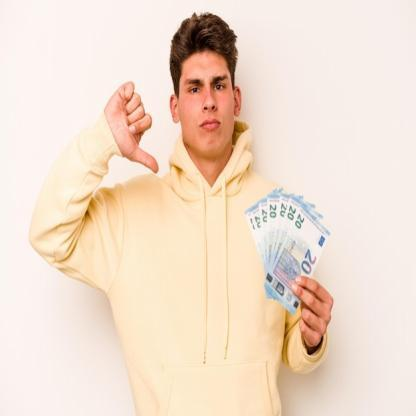thumb_down: (103, 78, 160, 176)
